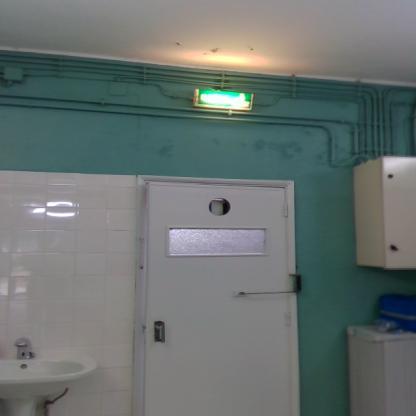door: (146, 184, 292, 416)
hinged: (284, 310, 292, 326), (282, 203, 290, 218)
